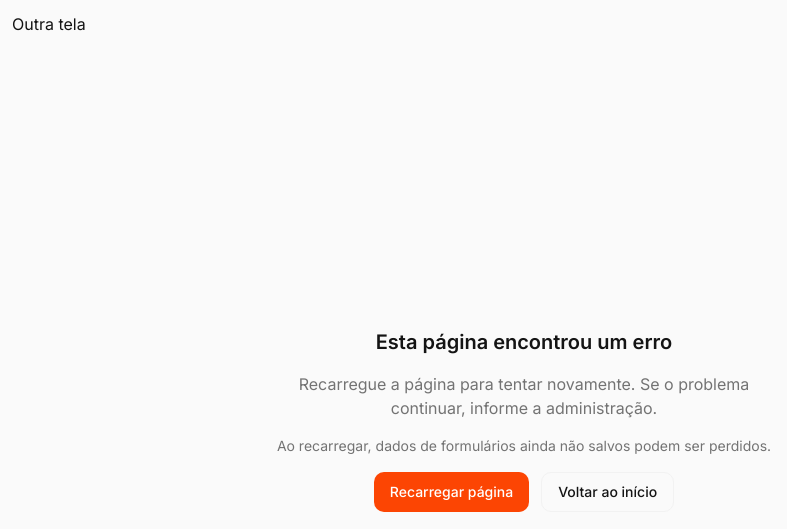
Test: route recovery › contains runtime failures and clears the error when navigating to another route
Expected: the message shows "Esta página encontrou um erro", [376,330,672,354]
Click the link "Outra tela". click: (49, 24)
box: [12,14,86,34]
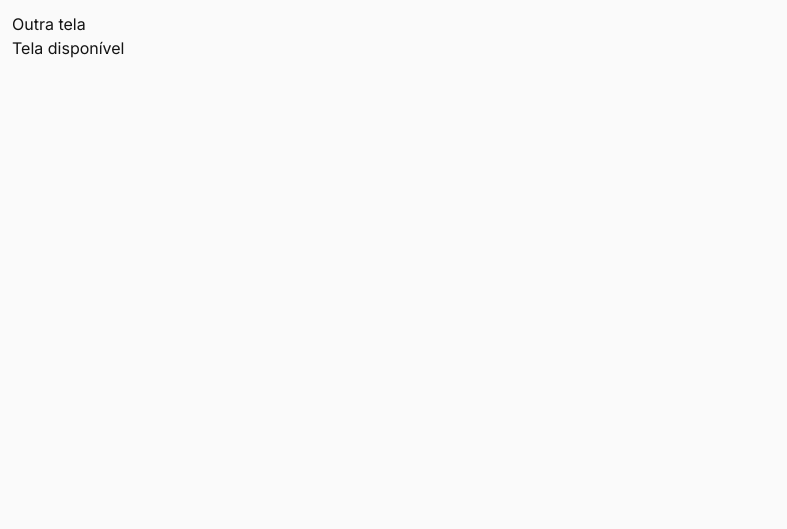
Expected: the heading "Tela disponível" is shown, [12,38,124,58]
